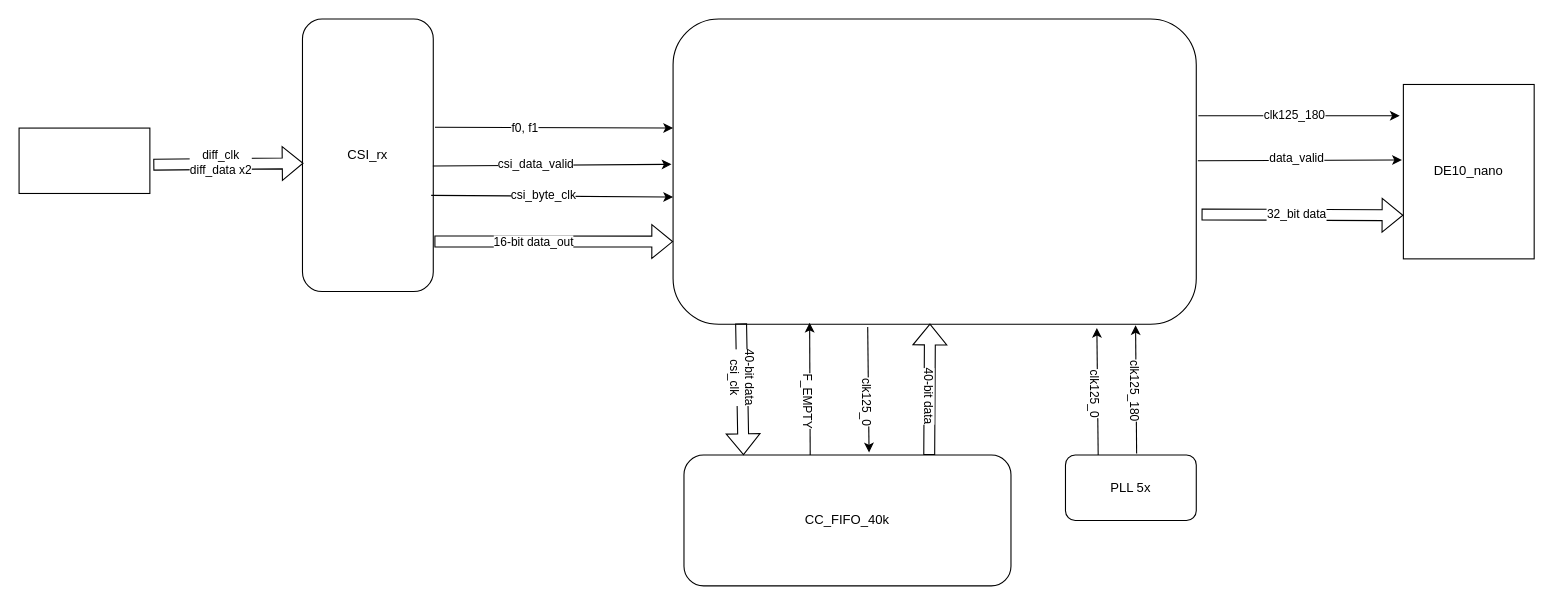
Some shapes in this 1553 by 605 pixel diagram are drawn without their labels. Here are the shapes that lost their labels. From the top down, the centre of each, then its label:
(x=84, y=160): Camera CSI-2
(x=934, y=171): esy_DE10
